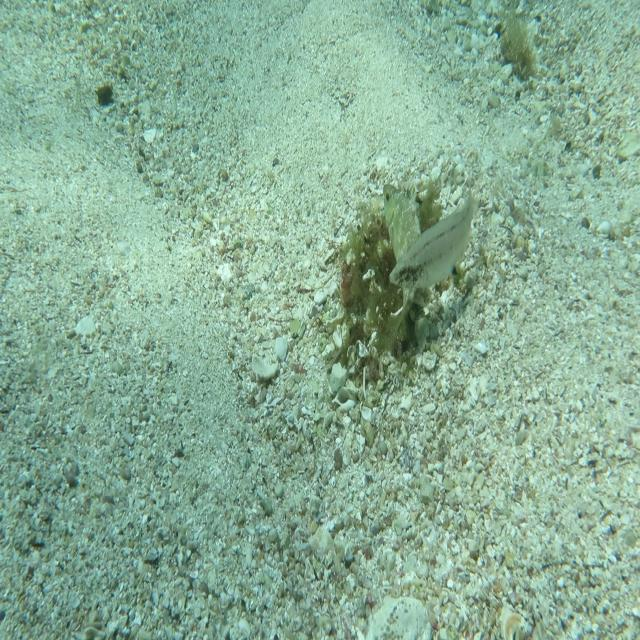ROLL: (379, 174, 426, 344)
female: (388, 179, 482, 293)
nest: (325, 151, 462, 383)
